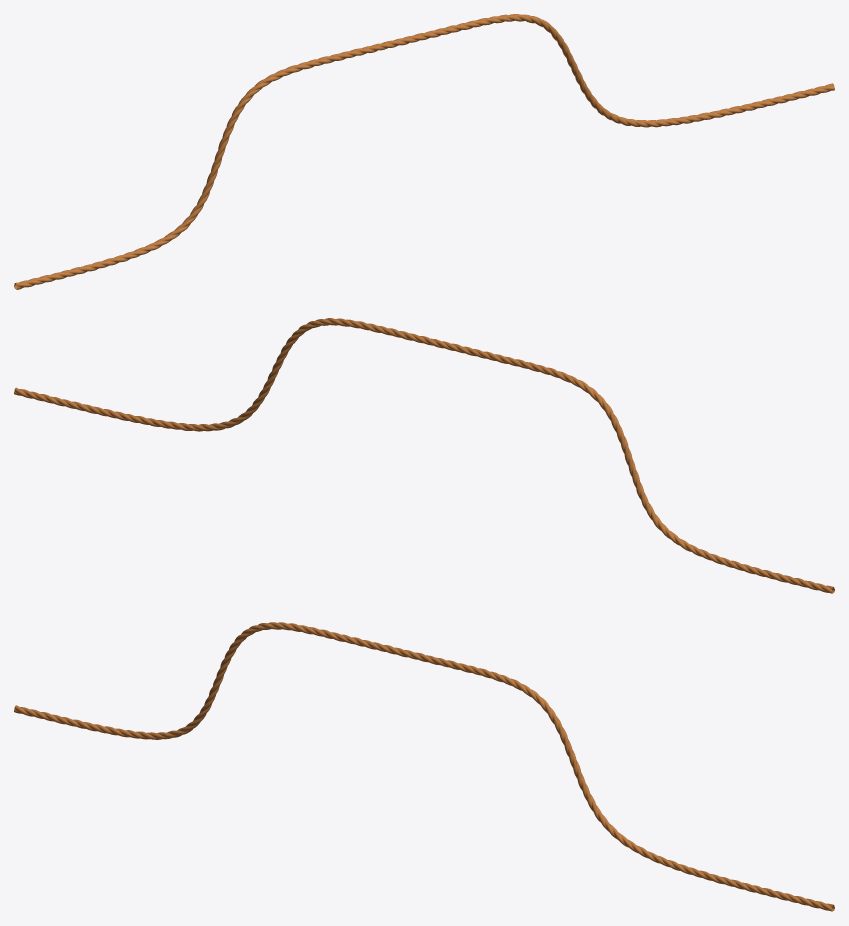
The model's file is rope.fbx.
The picture shows the model from 3 angles, top to bottom: view 1: azimuth 30°, elevation 25°; view 2: azimuth 150°, elevation 25°; view 3: azimuth 330°, elevation 25°; orthographic projection.
Parts seen in each view (by area): view 1: Circle; view 2: Circle; view 3: Circle.
Part boxes in pixels (box(x1,y1,x2,y2)): Circle: box(14, 14, 834, 289); Circle: box(14, 318, 834, 593); Circle: box(14, 622, 834, 911).
Bounding box in the file's own units: 515 × 94.9 × 4.15.
